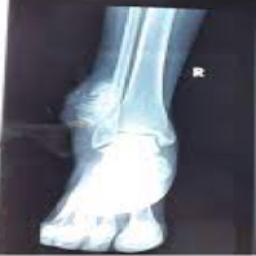cancer: (74, 83, 123, 124)
